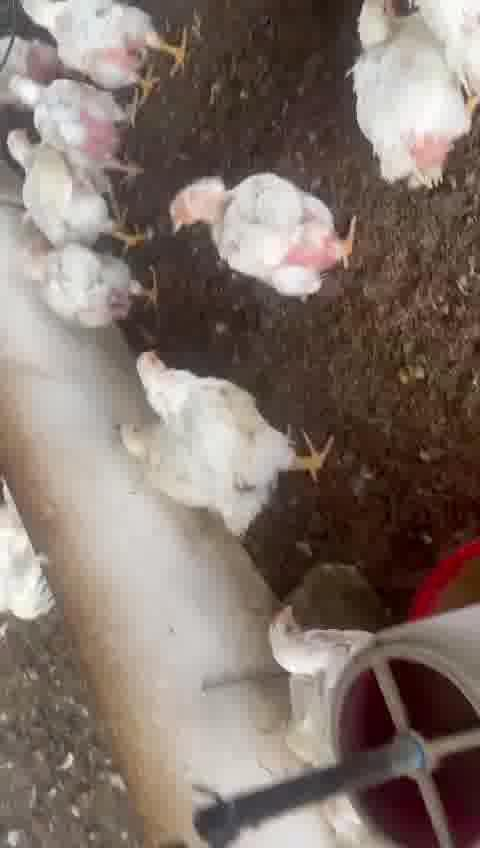AbNormal: (347, 0, 474, 184)
Normal: (137, 345, 335, 488), (172, 175, 354, 294), (7, 127, 145, 252), (24, 7, 186, 98), (17, 254, 164, 328), (265, 604, 338, 719)
